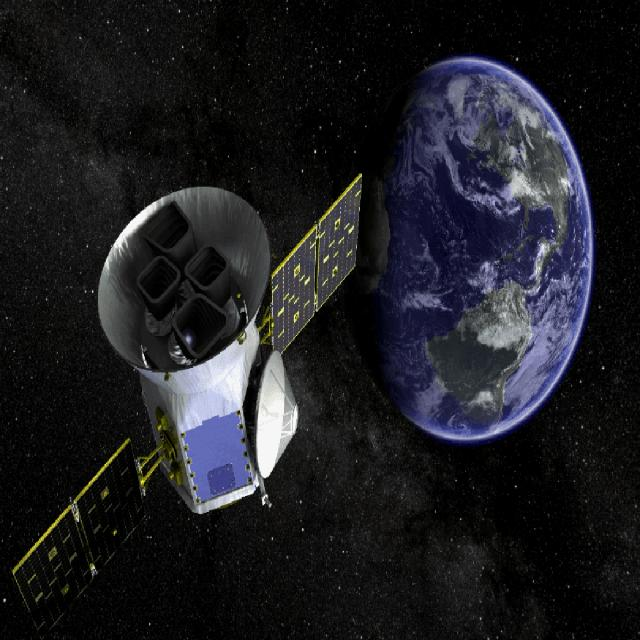medium_debris: (8, 156, 370, 624)
